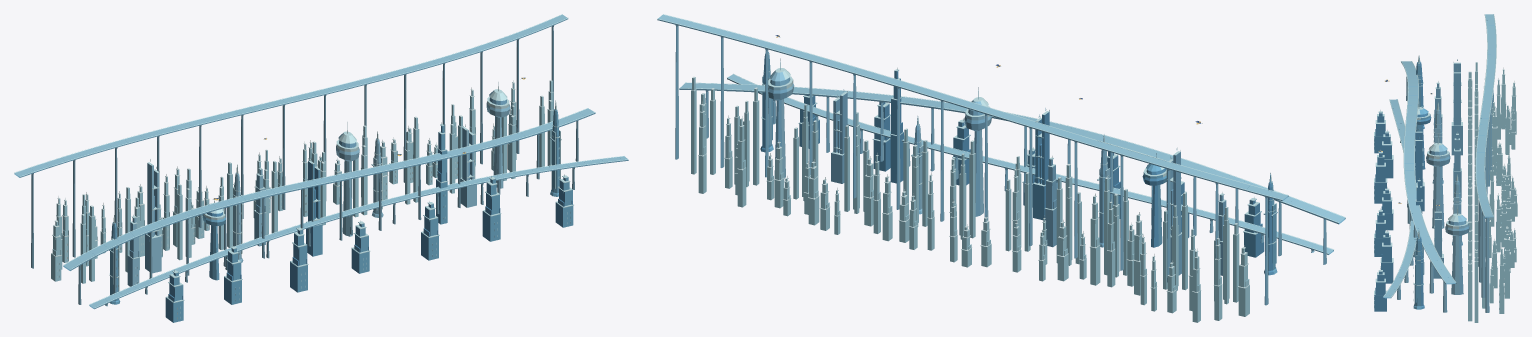
File: flight_city.glb
3 renders of one model, left to right at view 1: azimuth 30°, elevation 25°; view 2: azimuth 150°, elevation 25°; view 3: azimuth 270°, elevation 25°, orthographic. The views are drawn at different scales.
Parts seen in each view (by area): view 1: V4_CityFarHaze.001, V4_CityMidBlue.001, V4_CityDeckBlue.001, V4_CityTrimIce.001, V4_CityNearCerulean.001, V4_CityNearShade.001, V4_CityDeckShade.001, V4_CityMidShade.001, V4_CityFarLight.001; view 2: V4_CityFarHaze.001, V4_CityMidShade.001, V4_CityDeckBlue.001, V4_CityNearShade.001, V4_CityMidBlue.001, V4_CityTrimIce.001, V4_CityDeckShade.001, V4_CityFarLight.001, V4_CityNearCerulean.001; view 3: V4_CityFarHaze.001, V4_CityDeckBlue.001, V4_CityNearShade.001, V4_CityMidBlue.001, V4_CityMidShade.001, V4_CityTrimIce.001, V4_CityNearCerulean.001, V4_CityFarLight.001, V4_CityDeckShade.001.
Part boxes in pixels (left/top/right/bottom): V4_CityFarHaze.001: left=51, top=81, right=553, bottom=283; V4_CityMidBlue.001: left=31, top=25, right=578, bottom=306; V4_CityDeckBlue.001: left=14, top=14, right=628, bottom=307; V4_CityTrimIce.001: left=14, top=14, right=628, bottom=319; V4_CityNearCerulean.001: left=110, top=109, right=573, bottom=322; V4_CityNearShade.001: left=109, top=109, right=572, bottom=322; V4_CityDeckShade.001: left=14, top=18, right=628, bottom=309; V4_CityMidShade.001: left=31, top=40, right=576, bottom=304; V4_CityFarLight.001: left=51, top=80, right=553, bottom=277; V4_CityFarHaze.001: left=691, top=77, right=1249, bottom=322; V4_CityMidShade.001: left=675, top=25, right=1325, bottom=305; V4_CityDeckBlue.001: left=657, top=14, right=1345, bottom=253; V4_CityNearShade.001: left=760, top=54, right=1277, bottom=275; V4_CityMidBlue.001: left=677, top=25, right=1326, bottom=304; V4_CityTrimIce.001: left=657, top=14, right=1345, bottom=253; V4_CityDeckShade.001: left=657, top=19, right=1345, bottom=254; V4_CityFarLight.001: left=691, top=76, right=1249, bottom=292; V4_CityNearCerulean.001: left=762, top=52, right=1277, bottom=274; V4_CityFarHaze.001: left=1468, top=62, right=1517, bottom=322; V4_CityDeckBlue.001: left=1383, top=14, right=1495, bottom=297; V4_CityNearShade.001: left=1374, top=62, right=1431, bottom=311; V4_CityMidBlue.001: left=1397, top=59, right=1492, bottom=312; V4_CityMidShade.001: left=1400, top=63, right=1493, bottom=312; V4_CityTrimIce.001: left=1374, top=14, right=1496, bottom=307; V4_CityNearCerulean.001: left=1374, top=56, right=1430, bottom=309; V4_CityFarLight.001: left=1468, top=62, right=1517, bottom=309; V4_CityDeckShade.001: left=1383, top=20, right=1494, bottom=298.
Bounding box in the file's own units: 83.32 × 20.77 × 22.55.
